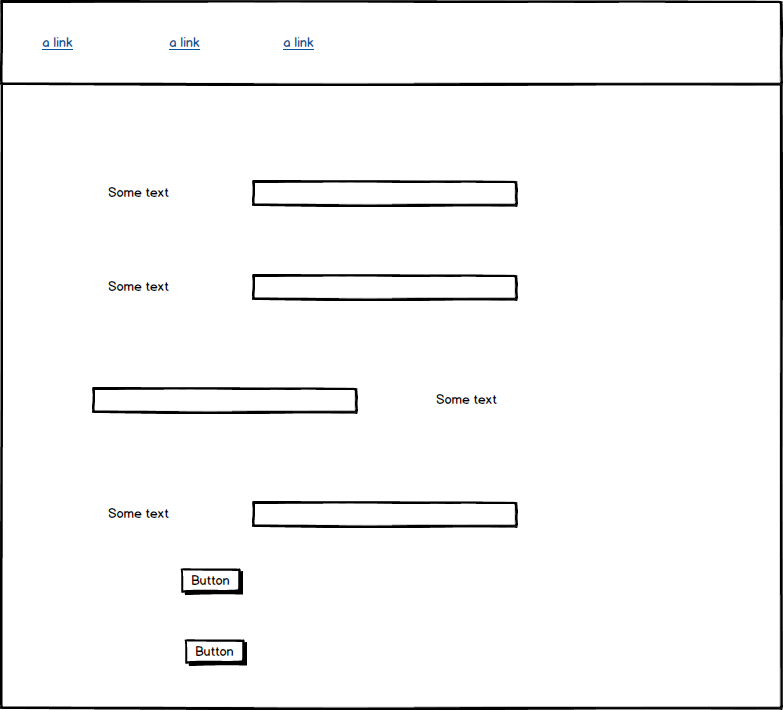button: (181, 634, 252, 669), (177, 565, 248, 598)
input: (248, 268, 524, 307), (85, 382, 369, 418), (246, 496, 523, 532), (249, 177, 522, 212)
label: (104, 174, 175, 203), (105, 273, 176, 300), (432, 386, 503, 411), (102, 502, 178, 525)
navlink: (277, 30, 326, 58), (38, 29, 79, 59), (163, 34, 210, 56)
